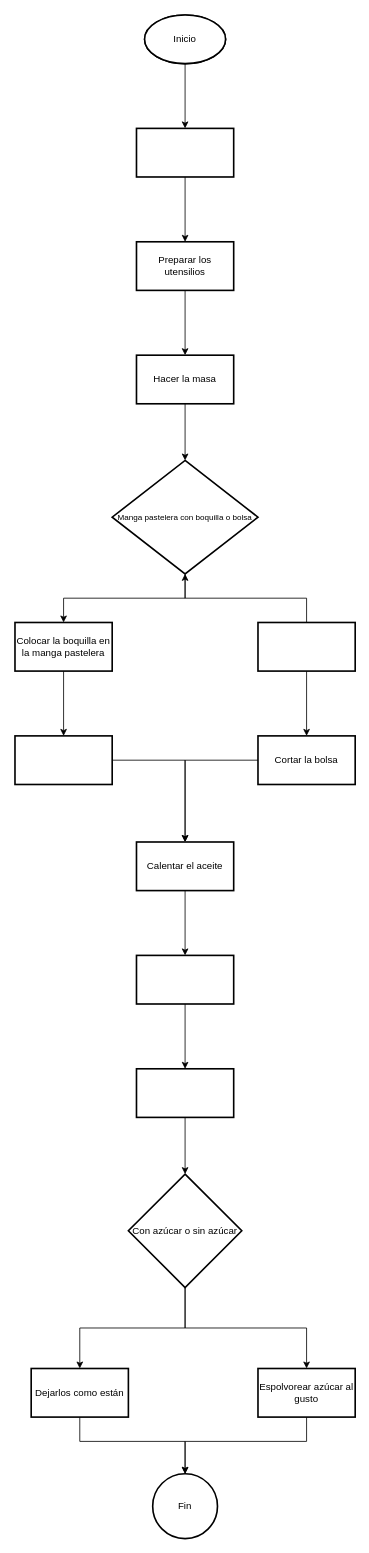
The diagram is 369 pixels wide and 1553 high, and some of its shapes have lost their labels. Here are the shapes that lost their labels. From the top down, the centre of each, then its label:
pixel 184 152: Reunir los ingredientes
pixel 306 646: Rellenar la bolsa
pixel 63 760: Rellenar con la masa fría
pixel 184 979: Darle forma a los churros
pixel 184 1093: Retirarlos y colocarlos en un plato con papel absorbente
